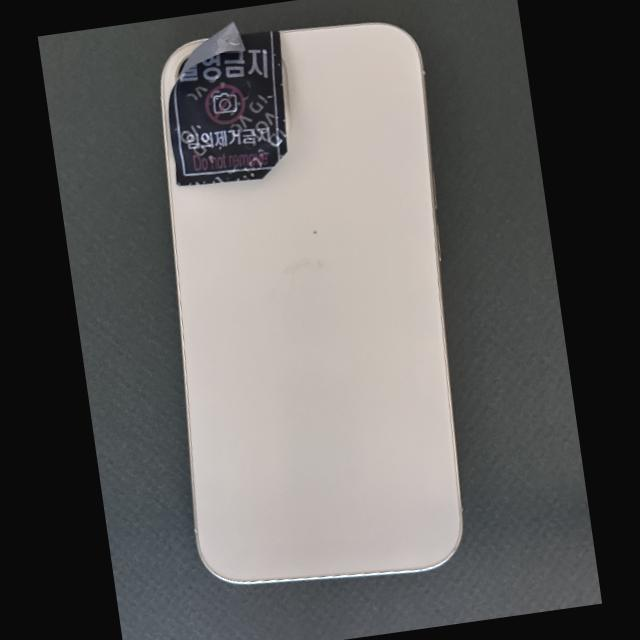lens: (174, 54, 190, 81)
phone: (161, 22, 464, 585)
sticker: (168, 21, 288, 187)
